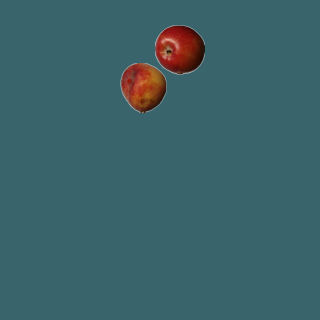Apple Braeburn: (154, 24, 204, 74)
Peach: (118, 62, 168, 112)
